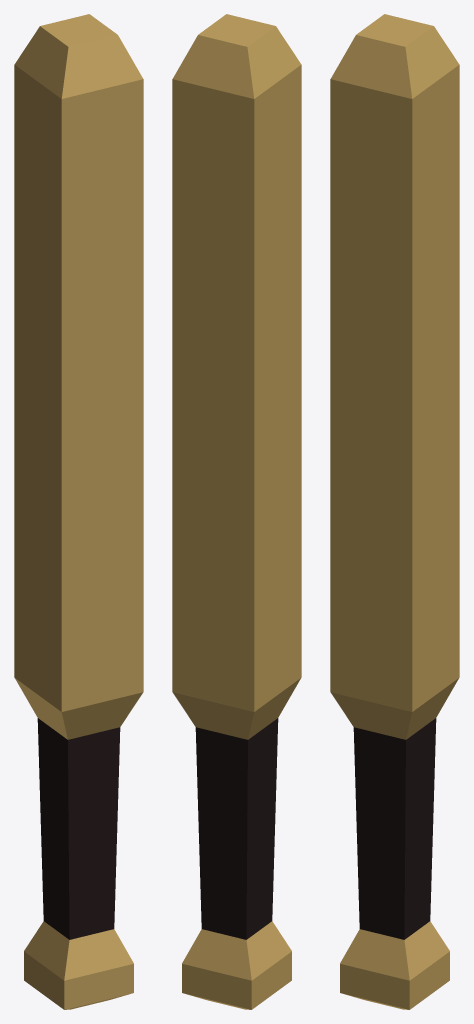
The model's file is Baseball Bat.fbx.
3 views of the same model, side by side, from view 1: azimuth 30°, elevation 25°; view 2: azimuth 150°, elevation 25°; view 3: azimuth 330°, elevation 25° (orthographic).
Visible parts, largest first — view 1: Cube.003; view 2: Cube.003; view 3: Cube.003.
Part boxes in pixels (x1=…): Cube.003: x1=14, y1=14, x2=143, y2=1009; Cube.003: x1=172, y1=14, x2=301, y2=1009; Cube.003: x1=330, y1=14, x2=459, y2=1009.
Size of the model in its own units: 8.25 by 93.09 by 8.25.
